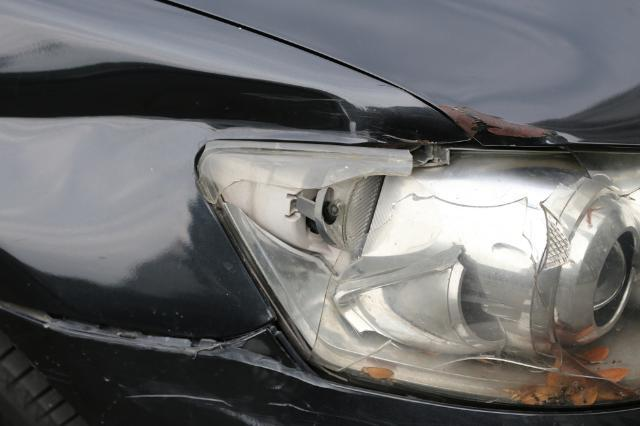Fender: (0, 3, 535, 426)
Light: (197, 142, 640, 403)
